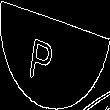P_N: (41, 26, 69, 84)
